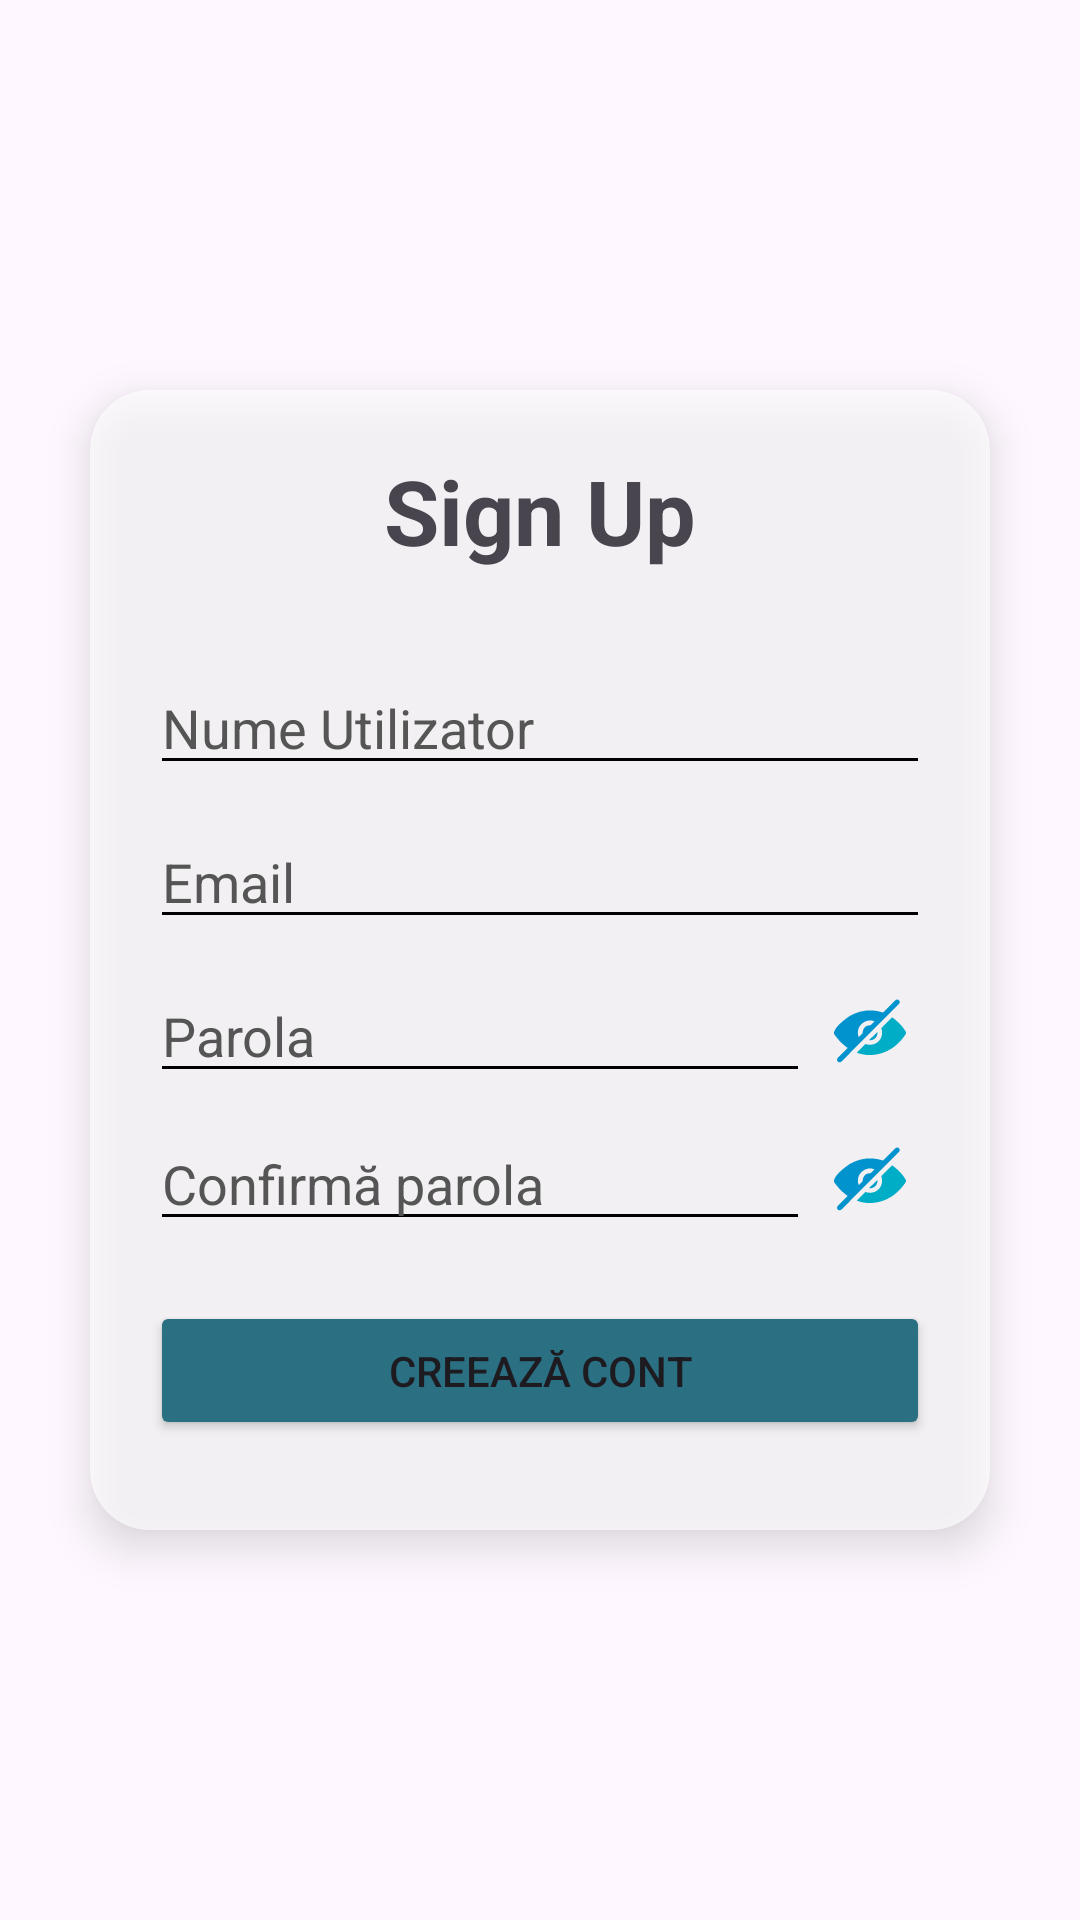

Screen size 1080 × 1920. Icon name, then its center in pixels as (x,y):
Toggle confirm password: (870,1179)
Toggle password: (870,1031)
